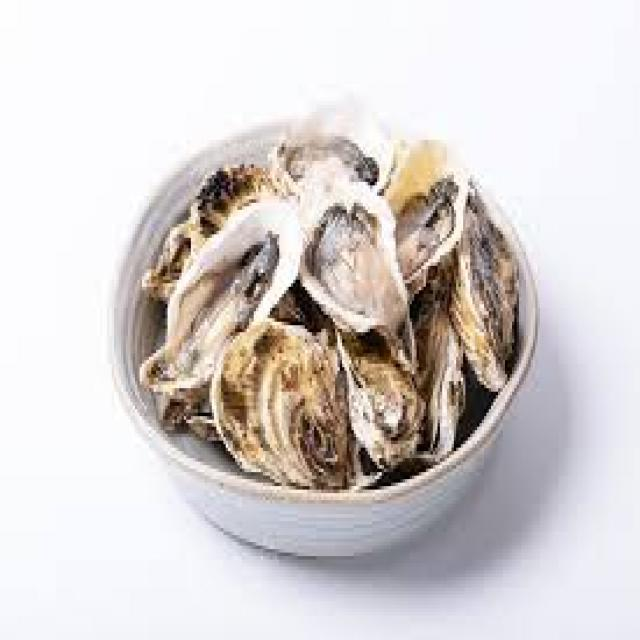Oyster- Indeterminate: (199, 324, 346, 491), (434, 187, 542, 398), (341, 320, 427, 467), (178, 153, 276, 235)
Oyster-Closed: (414, 296, 480, 494)
Oyster-Open: (154, 192, 297, 388), (288, 175, 440, 348), (394, 171, 468, 286), (261, 126, 405, 182)
